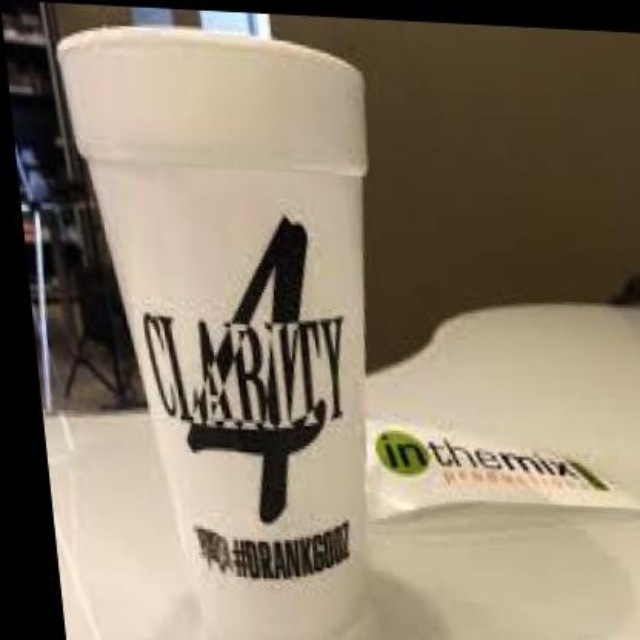trash: (58, 26, 365, 638)
